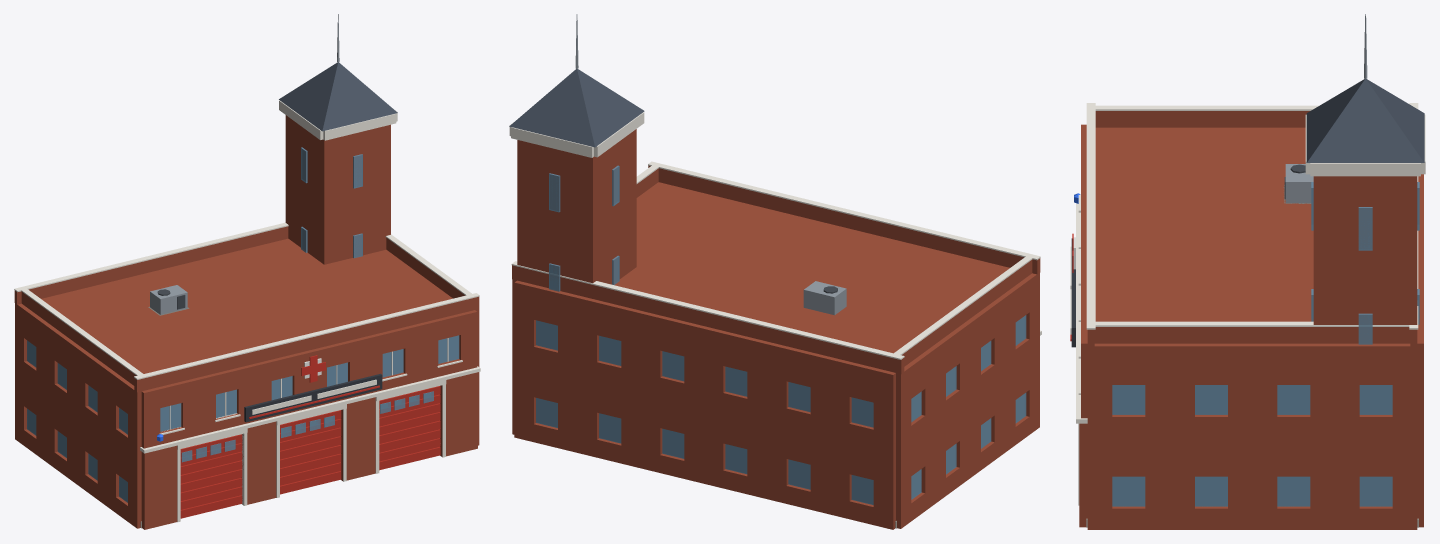
The model's file is BUILDING_13.obj.
3 views of the same model, side by side, from view 1: azimuth 30°, elevation 25°; view 2: azimuth 150°, elevation 25°; view 3: azimuth 270°, elevation 25° (orthographic). The views are drawn at different scales.
Parts seen in each view (by area): view 1: walls_core, walls_floor01, bay_doors, roof, walls_front, hose_tower, walls_floor00, hose_tower_roof, windows_floor01, signage, hose_tower_trim, hose_tower_windows (+2 smaller); view 2: walls_floor01, walls_core, walls_floor00, roof, hose_tower, hose_tower_roof, windows_floor01, windows_floor00, hose_tower_trim, hose_tower_windows, roof_equipment; view 3: walls_floor01, walls_core, hose_tower, walls_floor00, roof, hose_tower_roof, windows_floor01, windows_floor00, walls_front, hose_tower_trim, hose_tower_windows, roof_equipment (+1 smaller).
Part boxes in pixels (x1,y1,x2,y2): walls_core: (41, 238, 452, 373); walls_floor01: (15, 303, 479, 488); bay_doors: (177, 380, 446, 522); roof: (14, 222, 479, 392); walls_front: (140, 366, 480, 529); hose_tower: (285, 115, 390, 264); walls_floor00: (15, 400, 479, 528); hose_tower_roof: (279, 14, 397, 131); windows_floor01: (27, 335, 462, 434); signage: (244, 373, 382, 422); hose_tower_trim: (279, 100, 397, 140); hose_tower_windows: (301, 147, 362, 258); walls_floor01: (512, 273, 1039, 484); walls_core: (614, 182, 1009, 353); walls_floor00: (512, 382, 1039, 529); roof: (511, 161, 1040, 373); hose_tower: (517, 129, 636, 298); hose_tower_roof: (509, 14, 644, 147); windows_floor01: (536, 315, 1026, 427); windows_floor00: (536, 392, 1026, 504); hose_tower_trim: (509, 112, 644, 157); hose_tower_windows: (549, 165, 619, 291); roof_equipment: (803, 281, 846, 315); walls_floor01: (1081, 124, 1423, 476); walls_core: (1095, 127, 1313, 321); hose_tower: (1313, 176, 1417, 343); walls_floor00: (1087, 474, 1423, 529); roof: (1086, 103, 1418, 346); hose_tower_roof: (1306, 14, 1424, 162); windows_floor01: (1078, 194, 1392, 414); windows_floor00: (1112, 476, 1392, 506); walls_front: (1076, 203, 1087, 527); hose_tower_trim: (1305, 114, 1425, 176); hose_tower_windows: (1311, 182, 1419, 344); roof_equipment: (1283, 164, 1313, 203).
Bounding box in the file's own units: 22.65 × 23.02 × 15.09.
